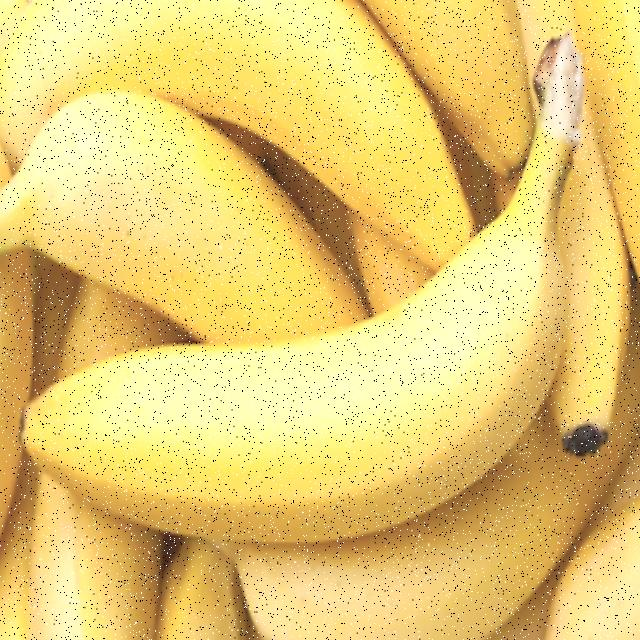god quality banana: (0, 2, 640, 638)
